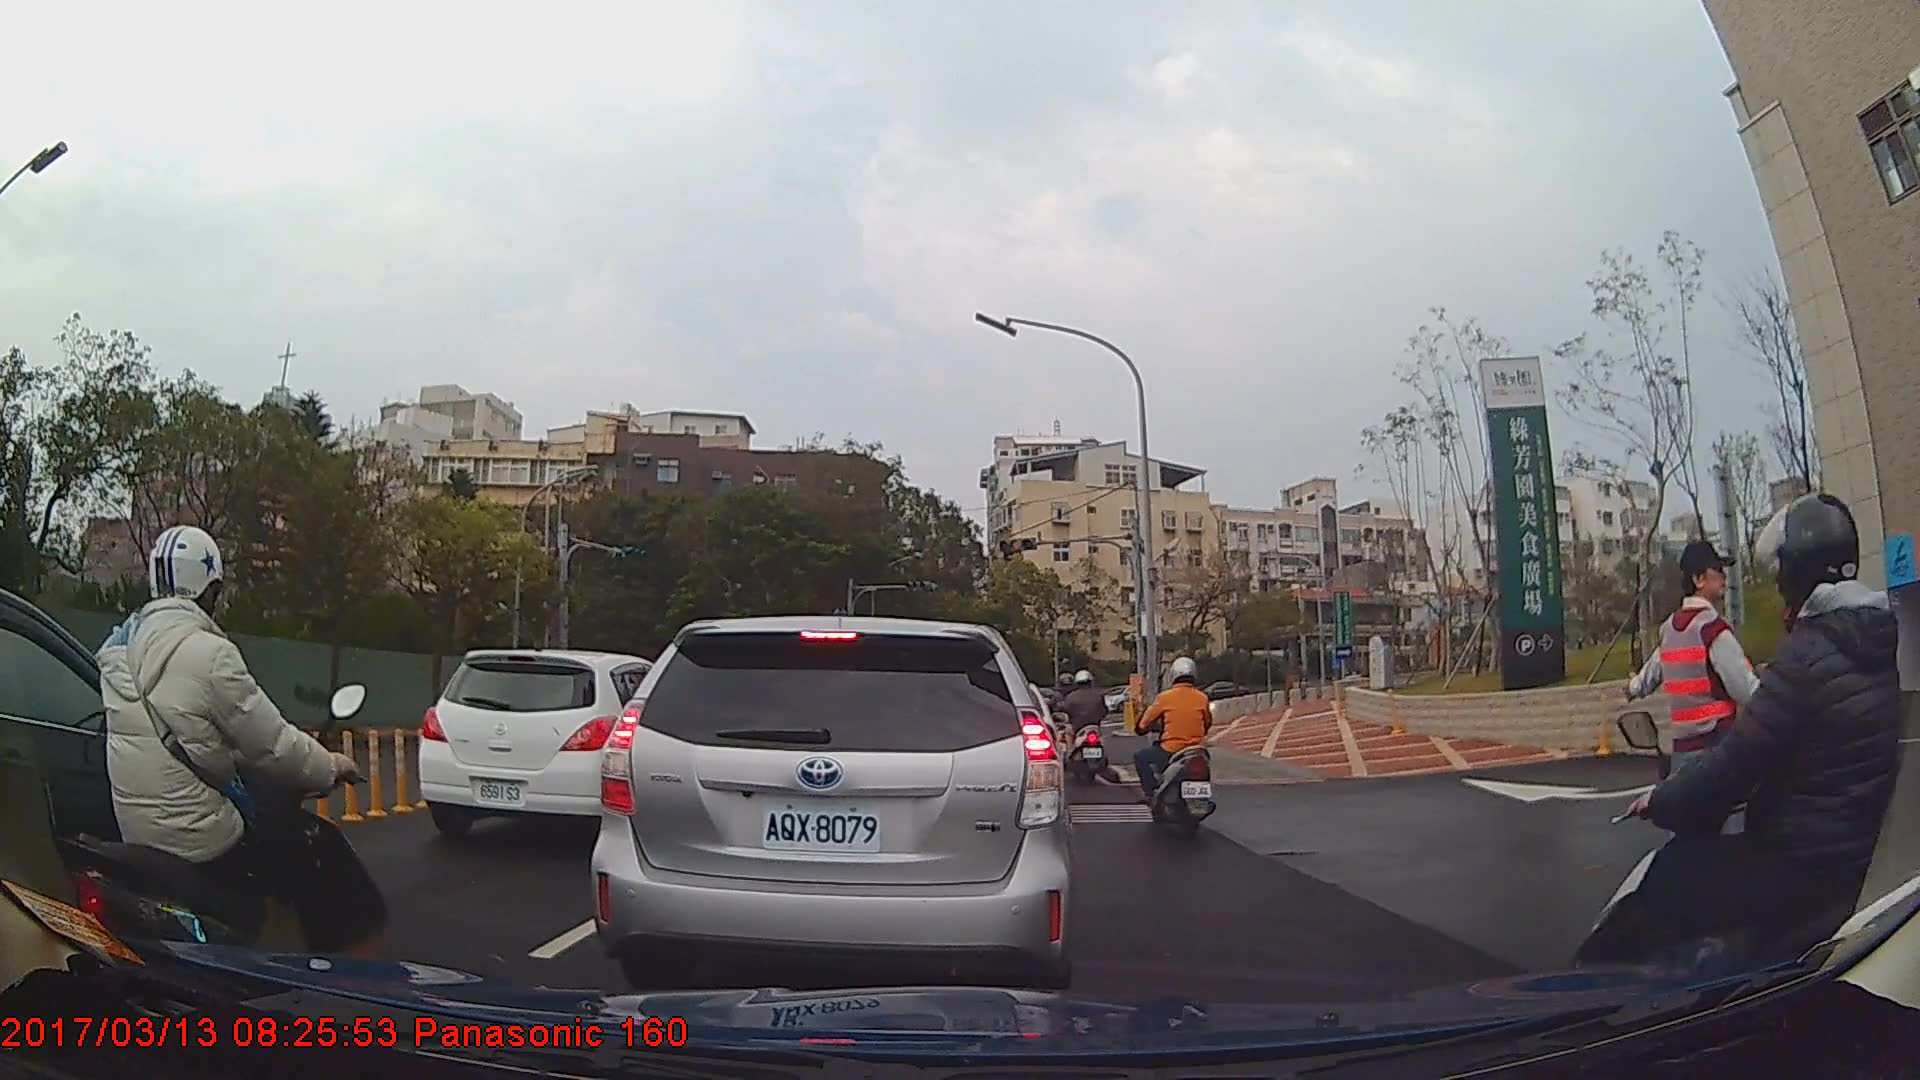pedestrian: (1619, 537, 1776, 980)
rider: (1571, 489, 1920, 1080), (61, 527, 397, 1068), (1131, 651, 1224, 838), (1062, 666, 1111, 788)
vehicle: (586, 615, 1075, 987), (417, 648, 701, 842), (1183, 678, 1252, 714)
